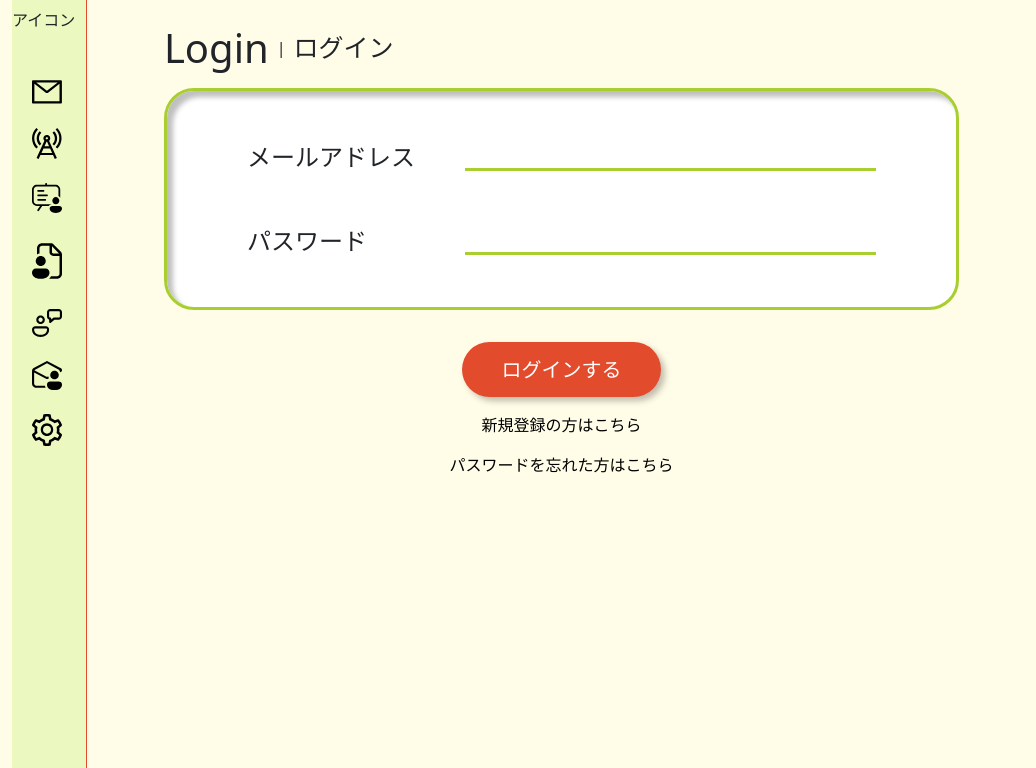
Scenario: ログイン › メールアドレスを入れないとバリデーションメッセージが表示される
The width and height of the screenshot is (1036, 768).
Step 1. Type "passwordpassword" into the password field with test id "login-input-password" → (670, 241), box [465,227,876,255]
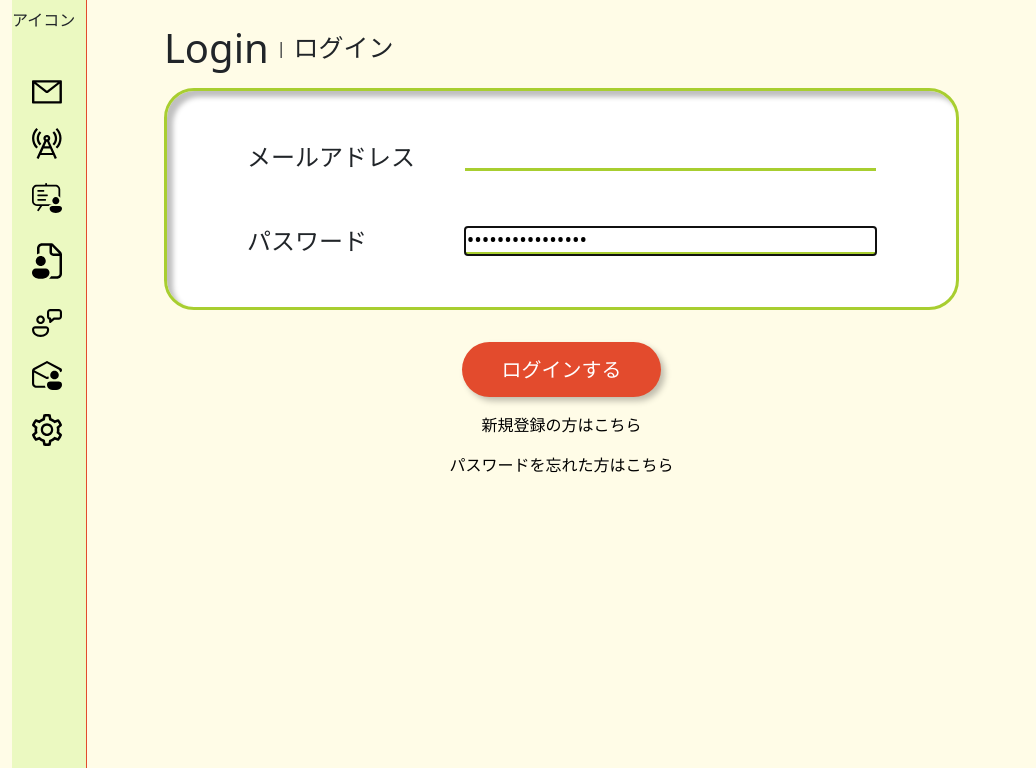
Step 2. Click the button → (562, 370), box [462,342,661,397]
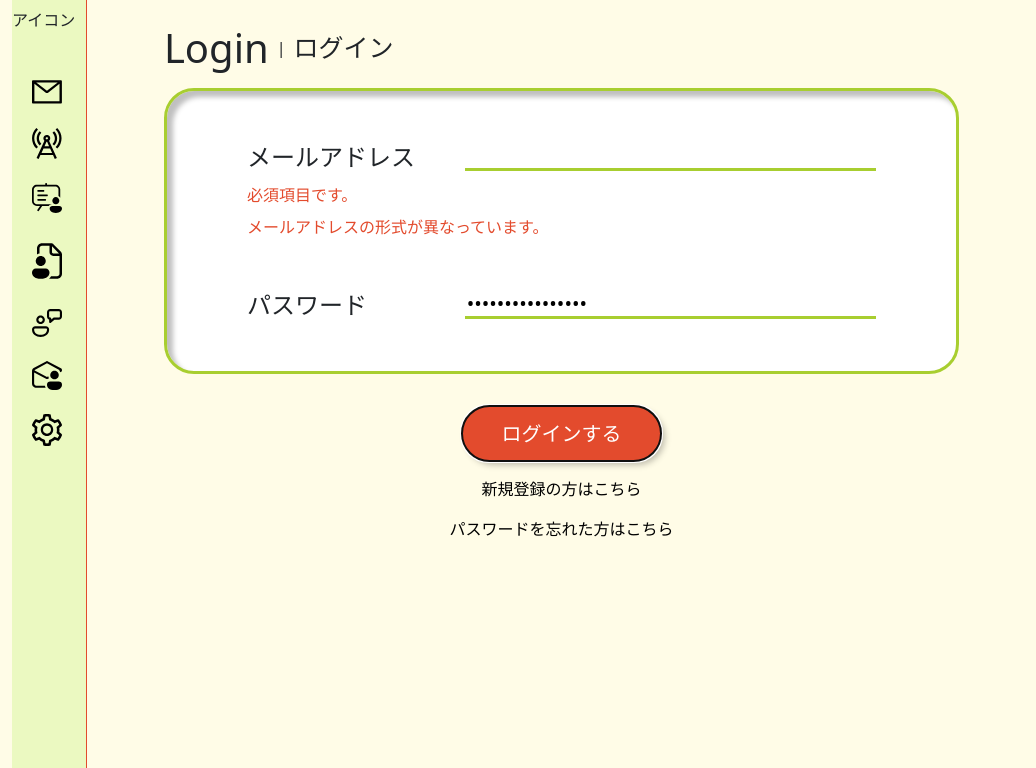
Check: the text "必須項目です。" is shown, box [247,184,357,206]
